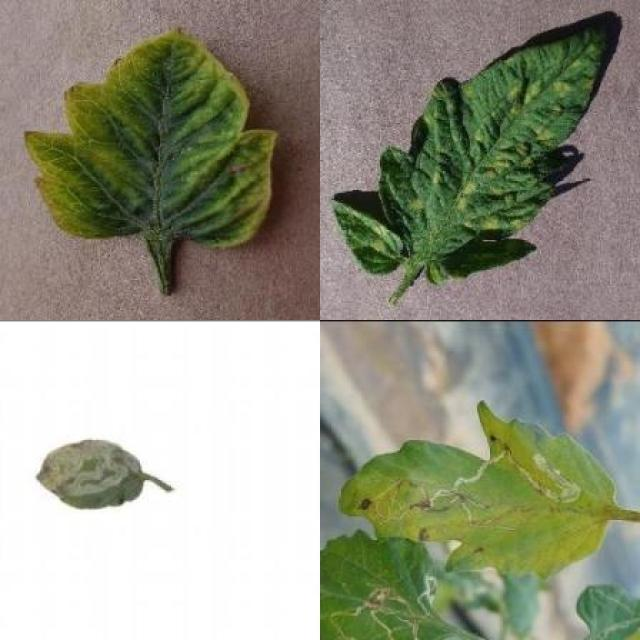Leaf Miner: (338, 397, 616, 580), (34, 436, 146, 508)
Leaf Mold: (335, 27, 605, 289)
Yellow Leaf Curl Virus: (23, 24, 280, 252)
